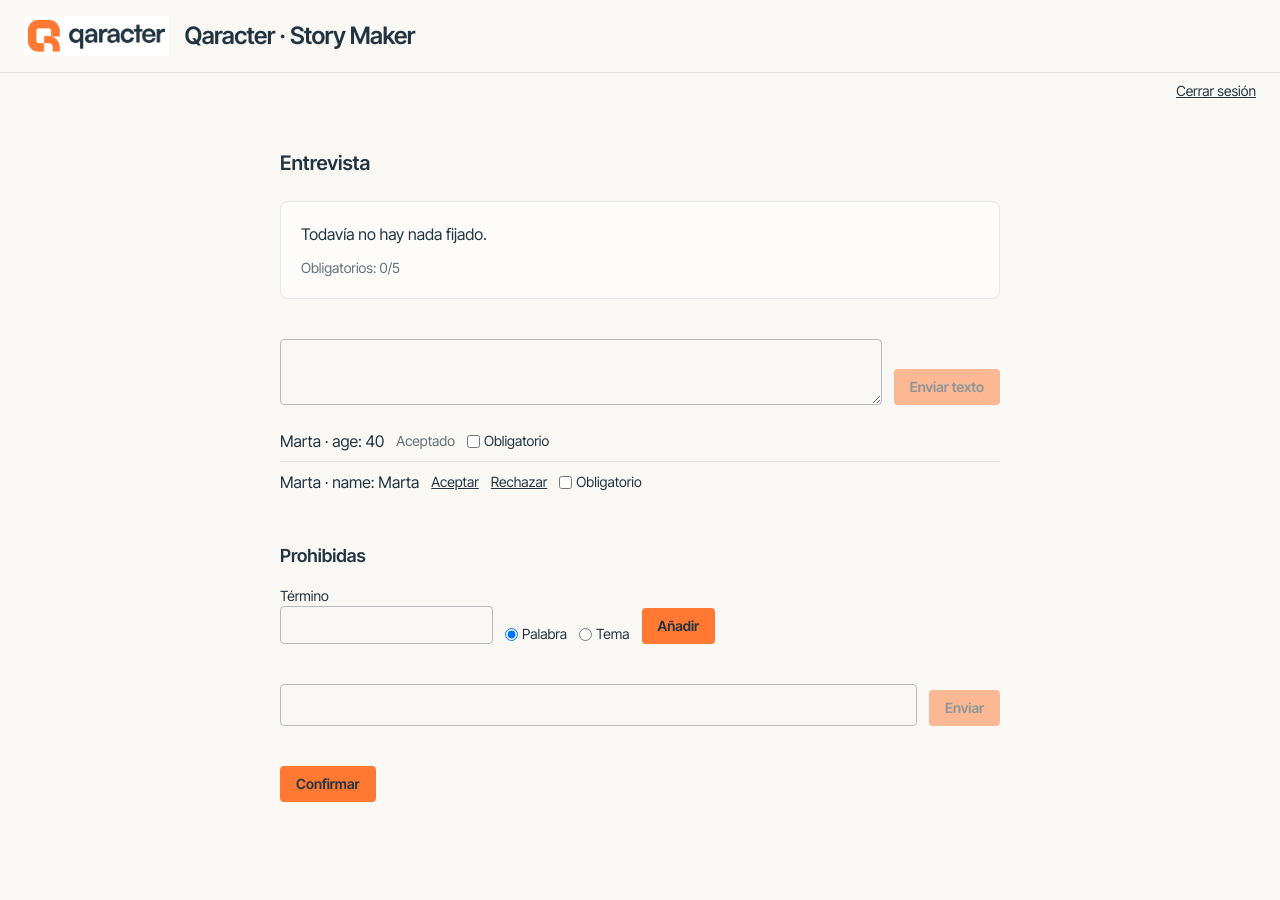
Scenario: 024 entrevista: texto libre y hechos extraídos › 024-C09: marking an accepted fact mandatory works; on an unaccepted one it's rejected
The width and height of the screenshot is (1280, 900).
What coordinates should you click on to do the following:
click the checkbox labelled "Obligatorio" in the row of "age"
I would click on:
 (473, 441)
Its box is x1=467 y1=434 x2=480 y2=448.
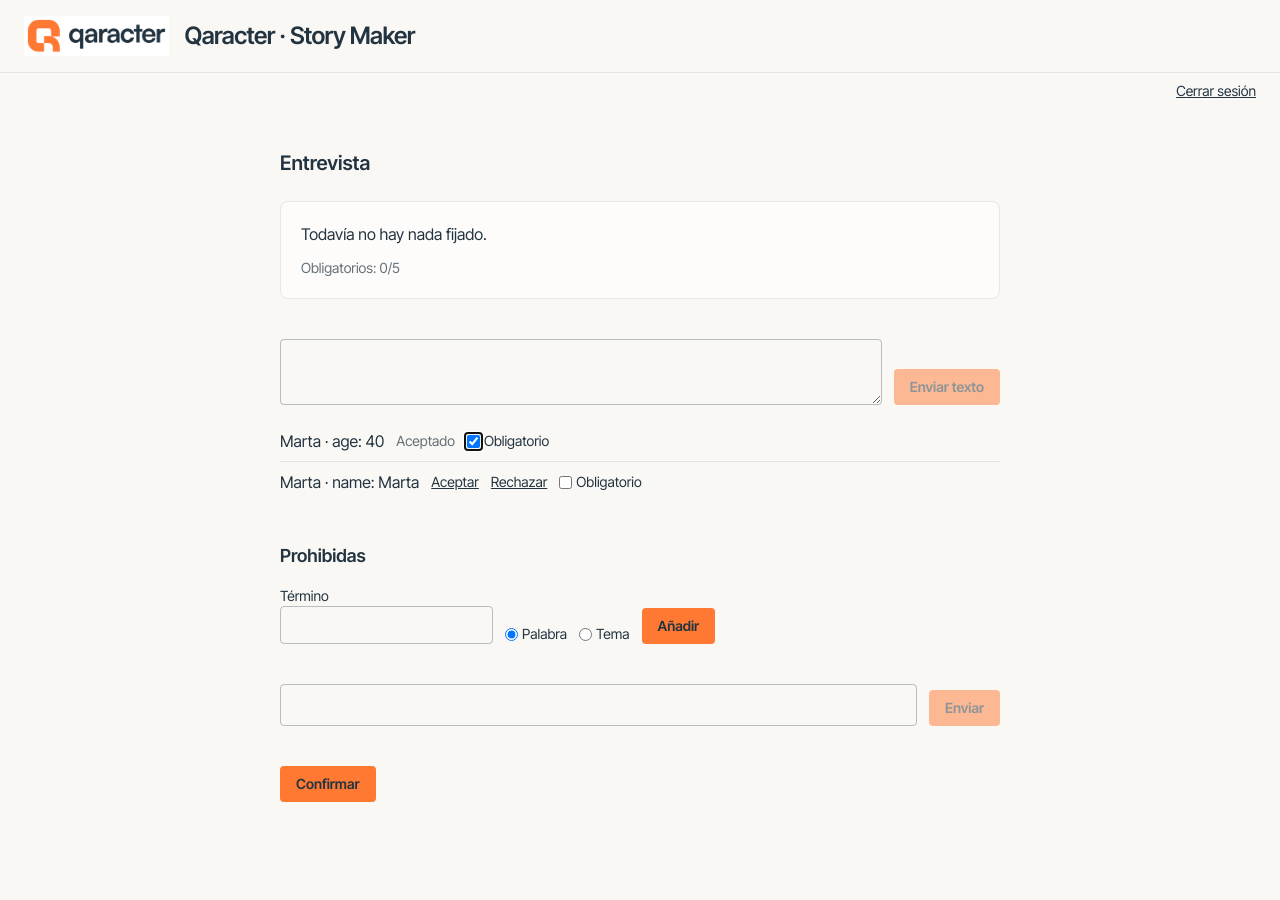
Expected: the checkbox labelled "Obligatorio" in the row of "age" is checked, x1=467 y1=434 x2=480 y2=448
What coordinates should you click on to do the following:
click the checkbox labelled "Obligatorio" in the row of "name"
I would click on:
 (566, 482)
Its box is x1=559 y1=476 x2=572 y2=488.
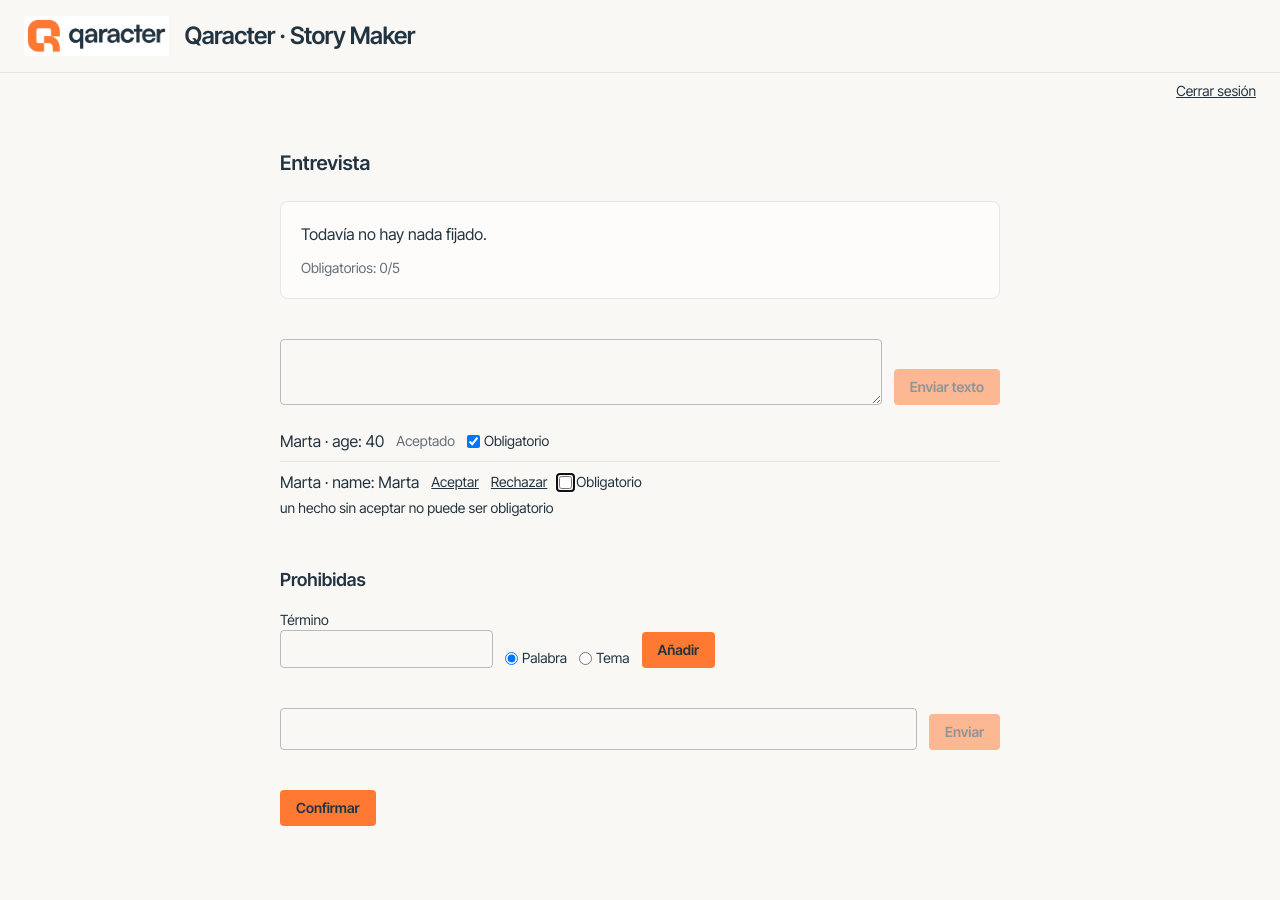
Expected: the message shows "no puede ser obligatorio", x1=280 y1=499 x2=554 y2=516
